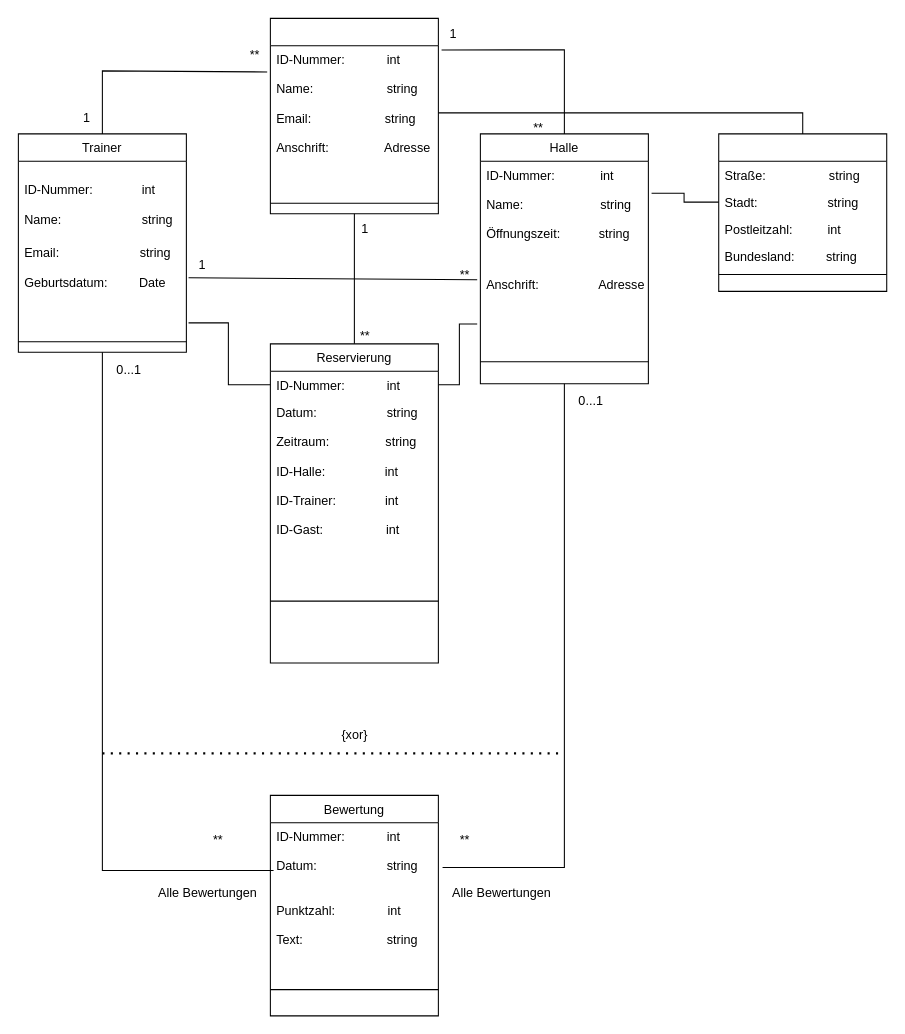
Some shapes in this 905 by 1034 pixel diagram are drawn without their labels. Here are the shapes that lost their labels. From the top down, the box of each, then its label:
(269, 17, 438, 214): Gast
(718, 133, 887, 291): Adresse
